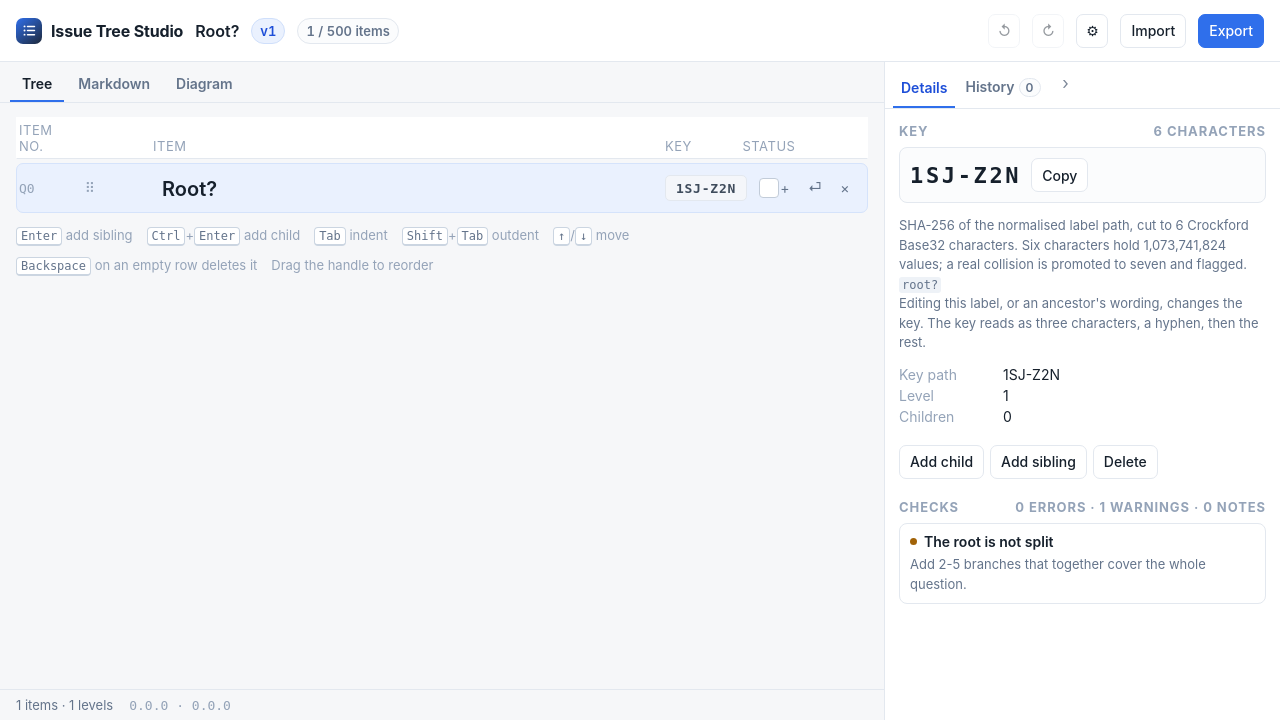
workspace shell › opens Settings from the cogwheel, with settings in it and nothing else
This screenshot has width=1280, height=720.
Check: the number of list items is 1, box [16, 163, 868, 213]
Click the button named "Settings". click: (1092, 30)
box: [1076, 14, 1108, 48]
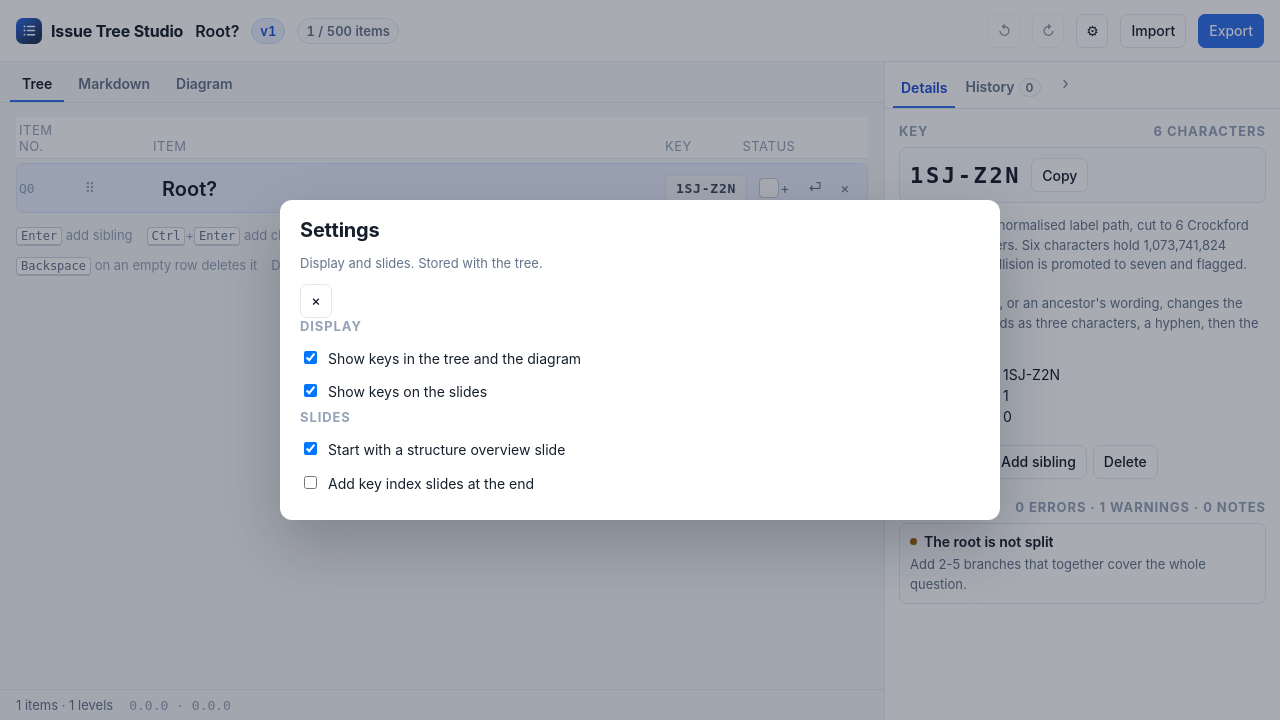
Check: the dialog "Settings" is shown, box [280, 200, 1000, 520]
Check: the text "Display and slides. Stored with the tree." is shown, box [300, 255, 543, 271]
Check: the text "Display" is shown, box [300, 318, 362, 334]
